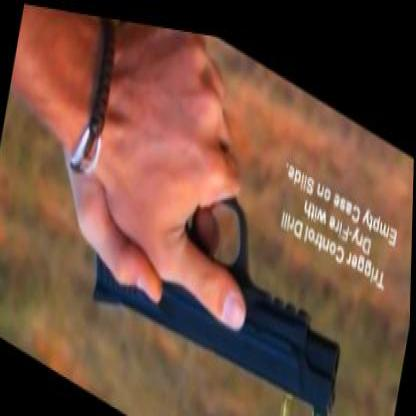pistol: (77, 96, 367, 413)
